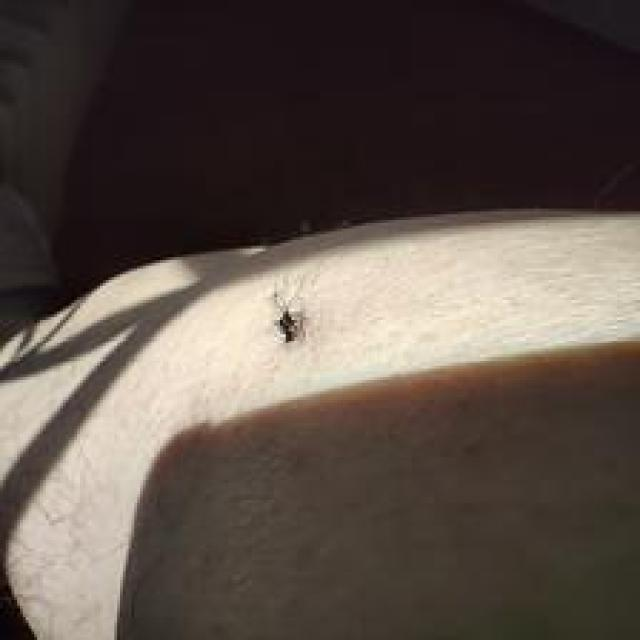Aedes albopictus: (0, 203, 640, 640)
